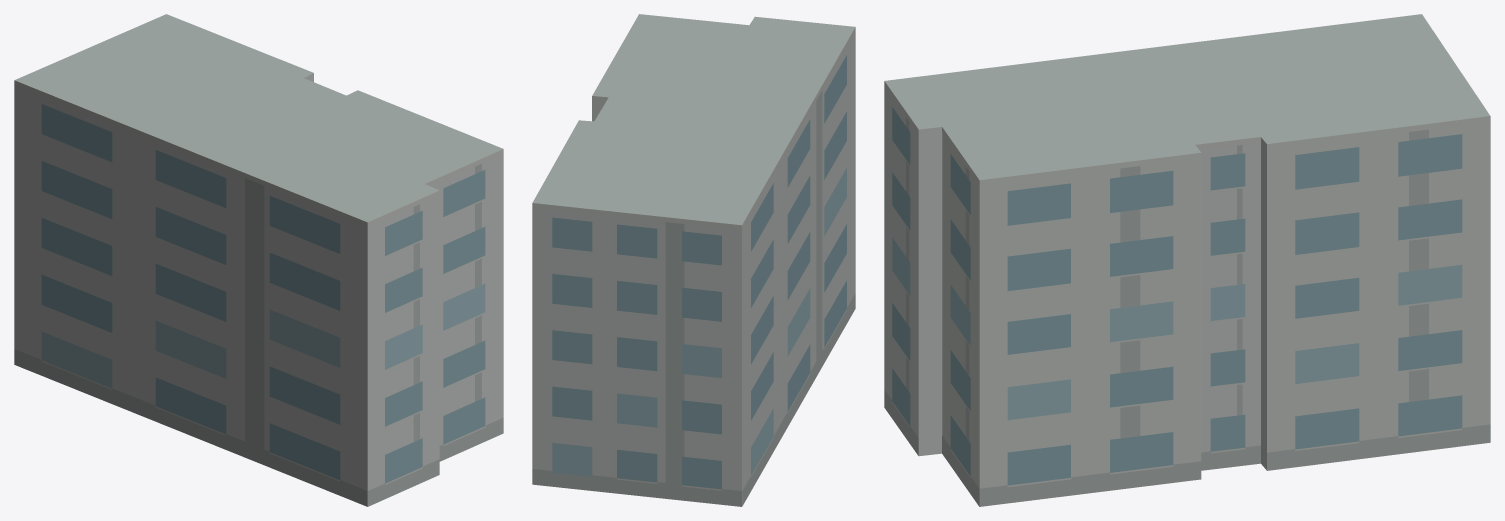
Rendered from survey-upis-32562359.glb.
3 views of the same model, side by side, from view 1: azimuth 30°, elevation 25°; view 2: azimuth 150°, elevation 25°; view 3: azimuth 270°, elevation 25° (orthographic). The views are drawn at different scales.
Visible parts, largest first — view 1: survey-upis-32562359.tmp; view 2: survey-upis-32562359.tmp; view 3: survey-upis-32562359.tmp.
Part boxes in pixels (x1,y1,x2,y2): survey-upis-32562359.tmp: (14,14,503,506); survey-upis-32562359.tmp: (532,14,855,506); survey-upis-32562359.tmp: (884,14,1490,506).
Bounding box in the file's own units: 15.29 × 14 × 23.55.
